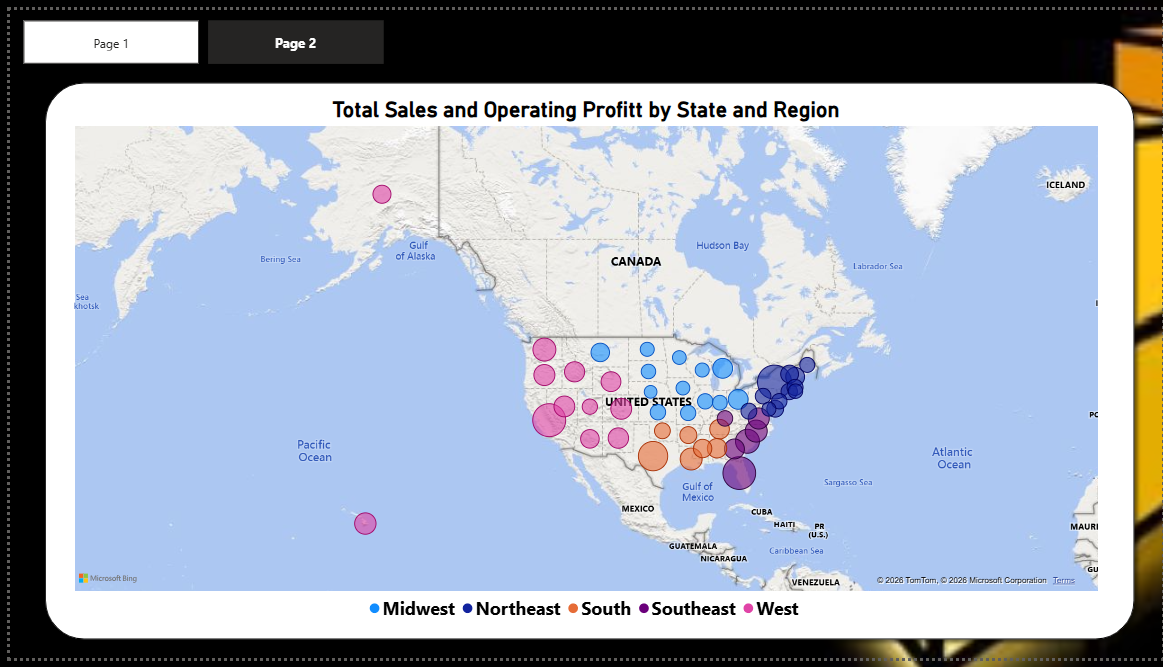

The dashboard page shown, as its layout file describes it:
{"tool":"powerbi","page":{"name":"Page 2","canvas":[1280,720],"ordinal":1},"visuals":[{"type":"shape","box":[30,71.7,1228.3,636.7],"z":1},{"type":"map","title":"Total Sales and Operating Profitt by State and Region","fields":{"Category":["Data Sales Adidas.State"],"Series":["Data Sales Adidas.Region"],"Size":["Sum(Data Sales Adidas.Total Sales)"]},"box":[66.7,96.7,1146.7,590],"z":501},{"type":"pageNavigator","box":[15,11.7,400,48.3],"z":502}]}

Visuals, with their boxes in screenshot pixels (x1, y1, x2, y2):
shape: bbox=(42, 82, 1143, 653)
"Total Sales and Operating Profitt by State and Region" map: bbox=(75, 105, 1102, 633)
pageNavigator: bbox=(29, 29, 387, 72)
